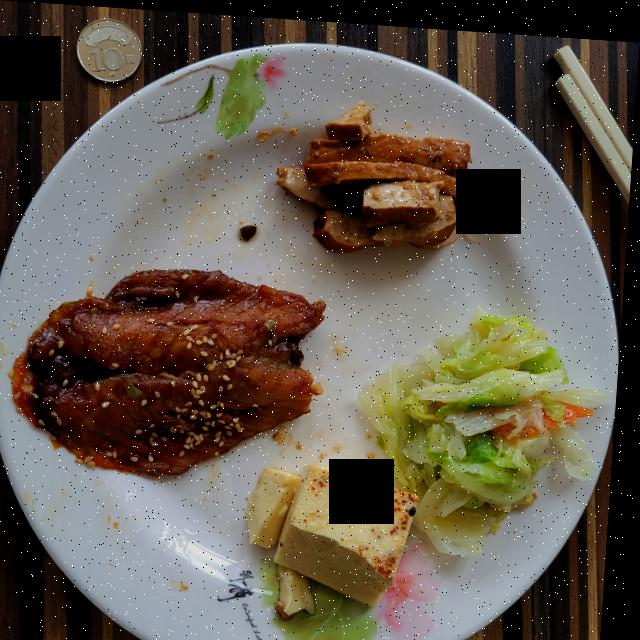Kabayaki sea bream fillet: (18, 267, 328, 475)
cabbage: (366, 308, 613, 550)
coin: (77, 17, 143, 82)
